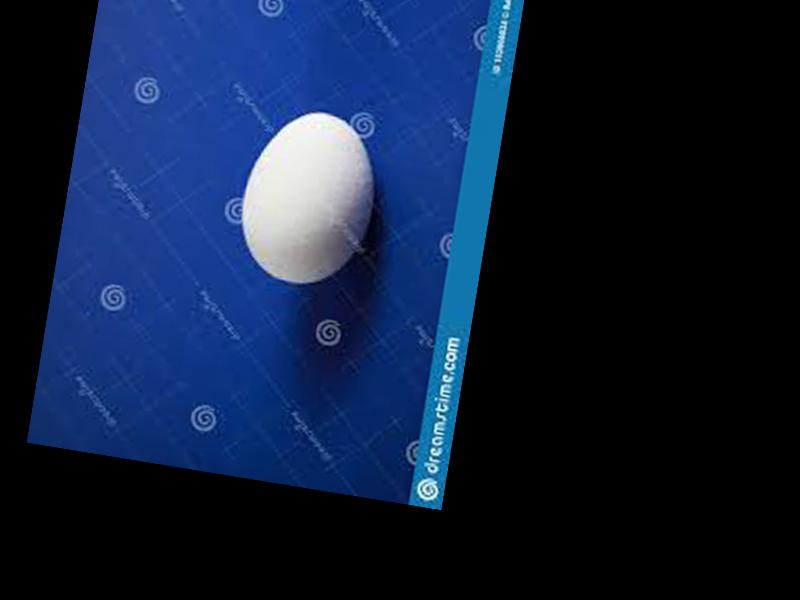Eggs: (232, 102, 386, 294)
